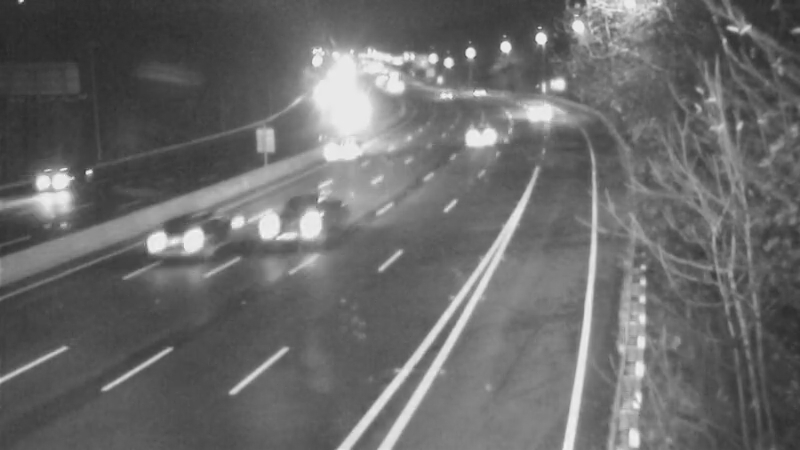vehicle: (291, 111, 371, 191), (251, 189, 331, 269), (136, 200, 216, 280), (17, 137, 97, 217), (455, 67, 505, 117), (420, 71, 470, 121), (515, 92, 565, 142), (448, 113, 498, 163), (327, 99, 377, 149)
